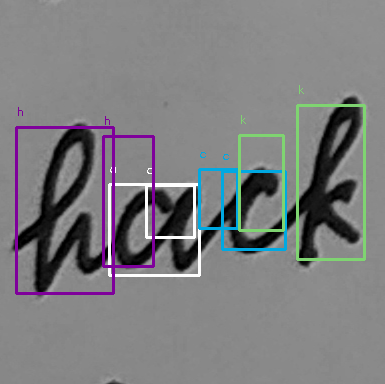a: (108, 179, 208, 278)
c: (220, 161, 287, 261)
h: (26, 119, 104, 298)
k: (293, 92, 365, 270)
